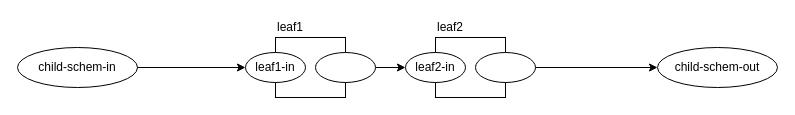
Some shapes in this 795 by 115 pixel diagram are drawn without their labels. The shapes that lost their labels are listed below. From the top down, each one's box as (x1, y1, x2, y2) in pixels, then its label:
(314, 52, 376, 82): leaf1-out
(474, 52, 536, 82): leaf2-out
